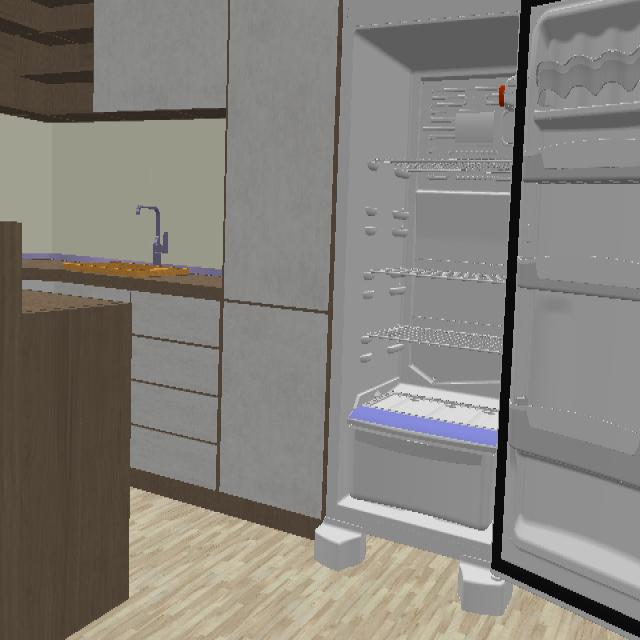countertop: (24, 268, 223, 300)
fridge: (316, 0, 640, 627)
sink: (64, 261, 221, 287)
